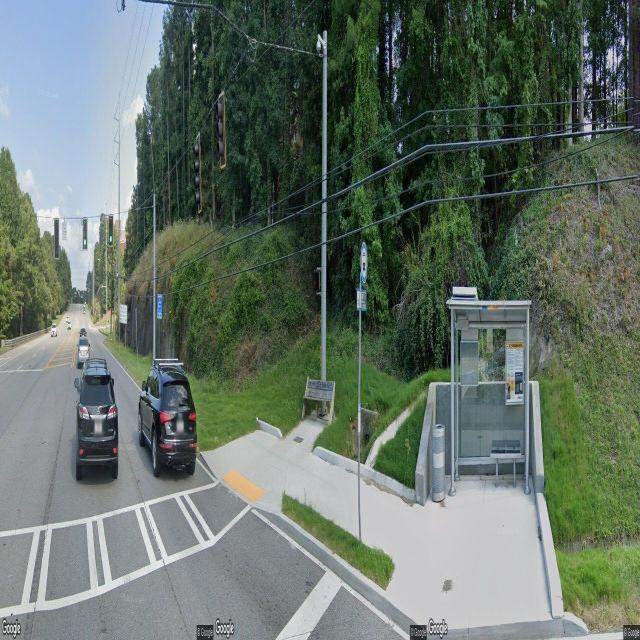seating: (300, 375, 336, 427), (490, 441, 522, 486)
shelter: (447, 296, 532, 495)
trash_can: (432, 423, 444, 503)
